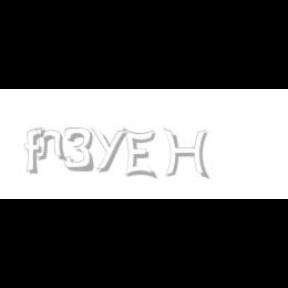3: (64, 128, 96, 172)
E: (124, 128, 156, 180)
H: (163, 128, 209, 180)
f: (25, 128, 49, 174)
n: (34, 128, 68, 162)
y: (91, 128, 131, 172)
